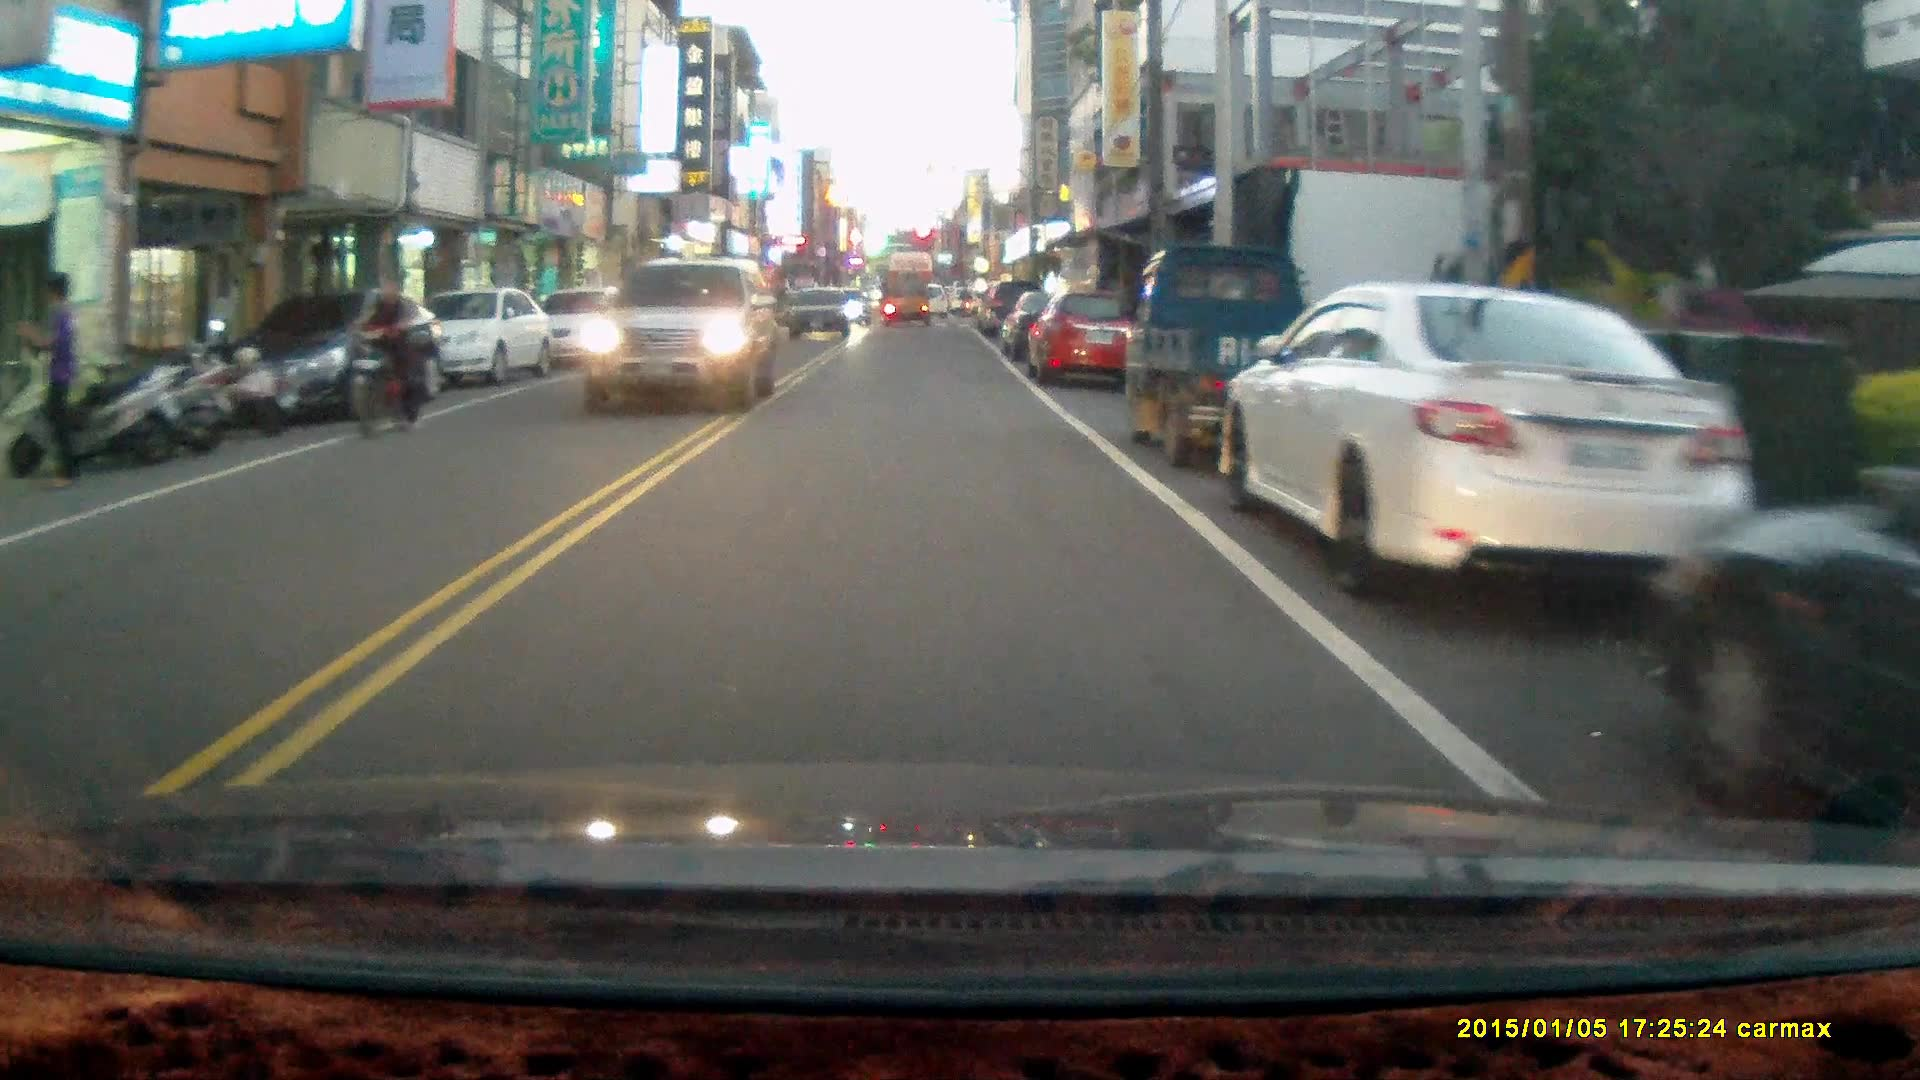pedestrian: (17, 270, 79, 496)
rider: (345, 269, 424, 439)
vehicle: (1214, 278, 1769, 613), (1657, 440, 1920, 850), (1127, 239, 1358, 472), (580, 255, 781, 420), (210, 285, 438, 422), (377, 287, 554, 393), (1032, 289, 1141, 391), (784, 288, 856, 341), (882, 274, 935, 332)
